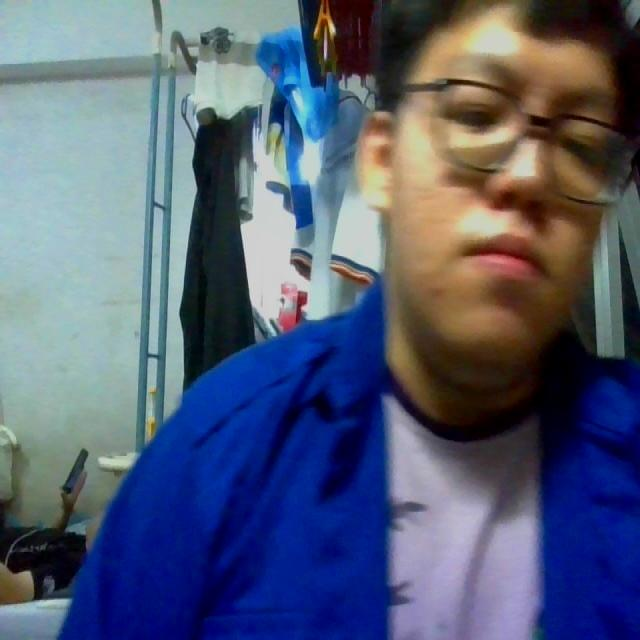person_with_labcoat: (61, 0, 639, 639)
